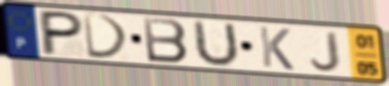B: (140, 15, 191, 66)
D: (80, 11, 132, 61)
J: (309, 30, 343, 74)
K: (256, 25, 296, 72)
P: (39, 8, 87, 57)
U: (192, 18, 241, 69)
